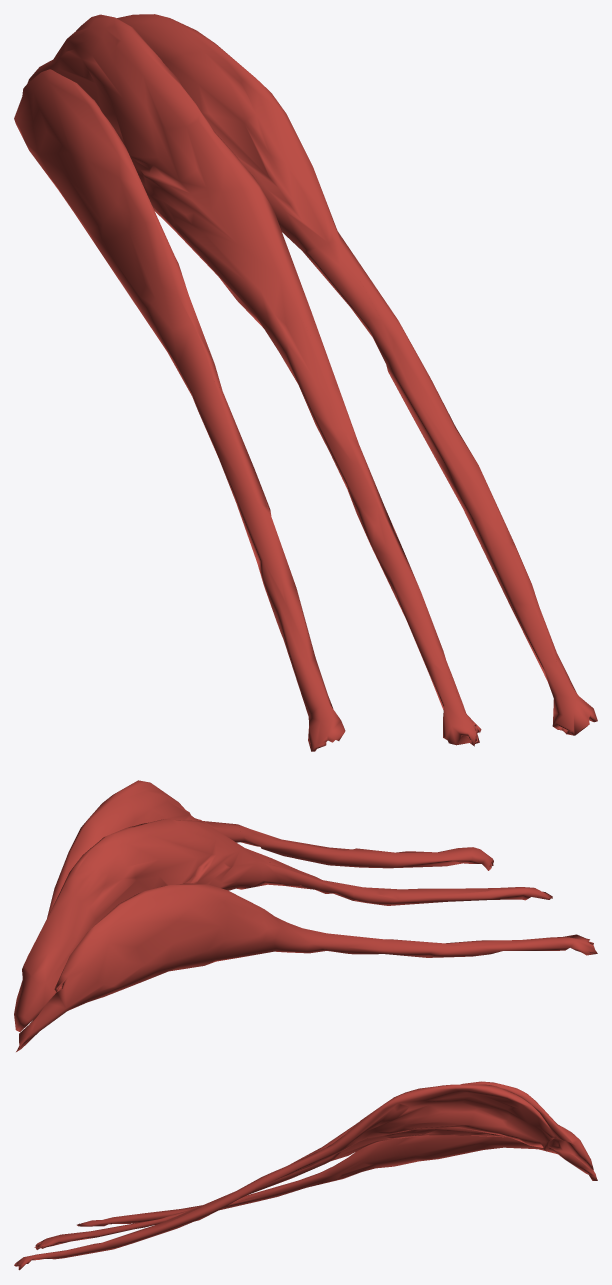
File: musculos-extensor-digitorum-brevis-r.glb
3 views of the same model, one above another, from view 1: azimuth 30°, elevation 25°; view 2: azimuth 150°, elevation 25°; view 3: azimuth 270°, elevation 25° (orthographic). The views are drawn at different scales.
Visible parts, largest first — view 1: Extensor digitorum brevis.r; view 2: Extensor digitorum brevis.r; view 3: Extensor digitorum brevis.r.
Boxes of the visible parts, box(x1,y1,x2,y2) form: Extensor digitorum brevis.r: box(14, 14, 597, 751); Extensor digitorum brevis.r: box(14, 780, 597, 1051); Extensor digitorum brevis.r: box(14, 1081, 597, 1270).
Size of the model in its own units: 0.0428 by 0.0587 by 0.1541.
